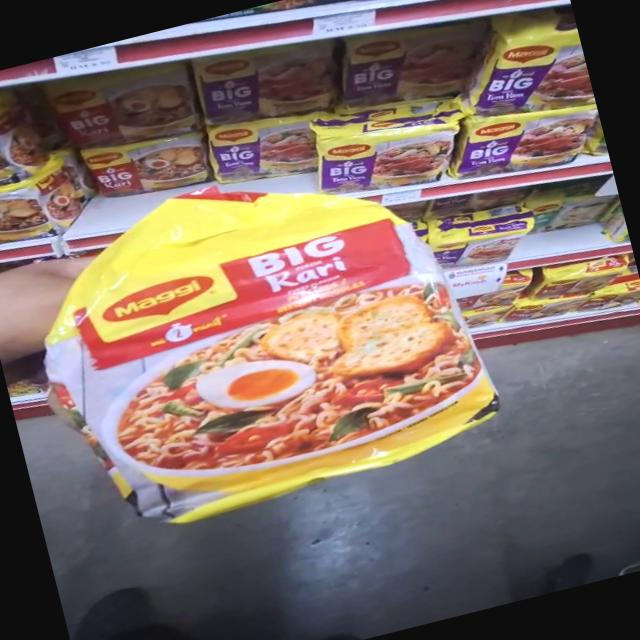Maggi: (21, 132, 531, 540), (447, 16, 593, 124), (318, 87, 452, 196), (64, 119, 214, 214), (462, 90, 608, 184), (196, 103, 328, 197), (527, 255, 640, 342), (0, 158, 91, 246)
